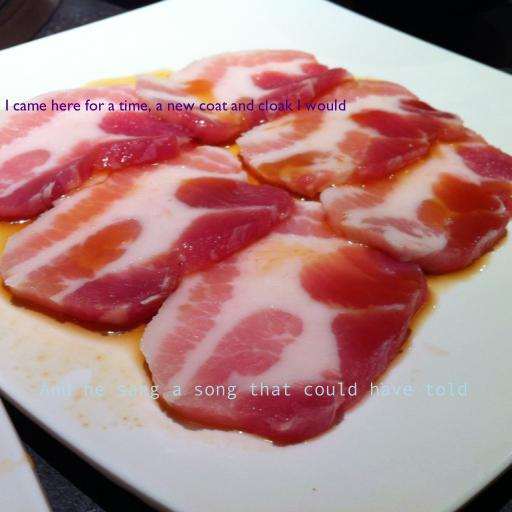Andale Mono: (38, 382, 468, 400)
Gill Sans: (4, 99, 346, 113)
